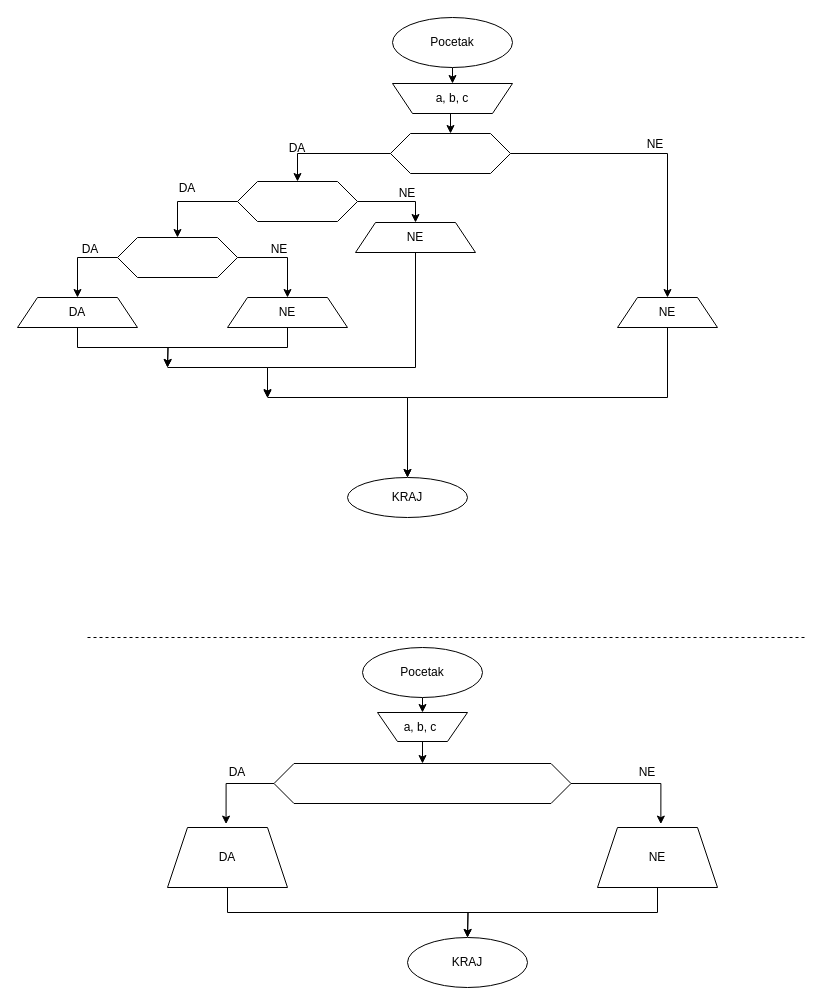
The diagram is 826 pixels wide and 1005 high, and some of its shapes have lost their labels. Here are the shapes that lost their labels. From the top down, the centre of each, then its label:
the point at 450,153: a + b > c
the point at 297,201: a + c > b
the point at 177,257: b + c > a
the point at 422,783: a + b > c AND a +c > b AND b +c > a
